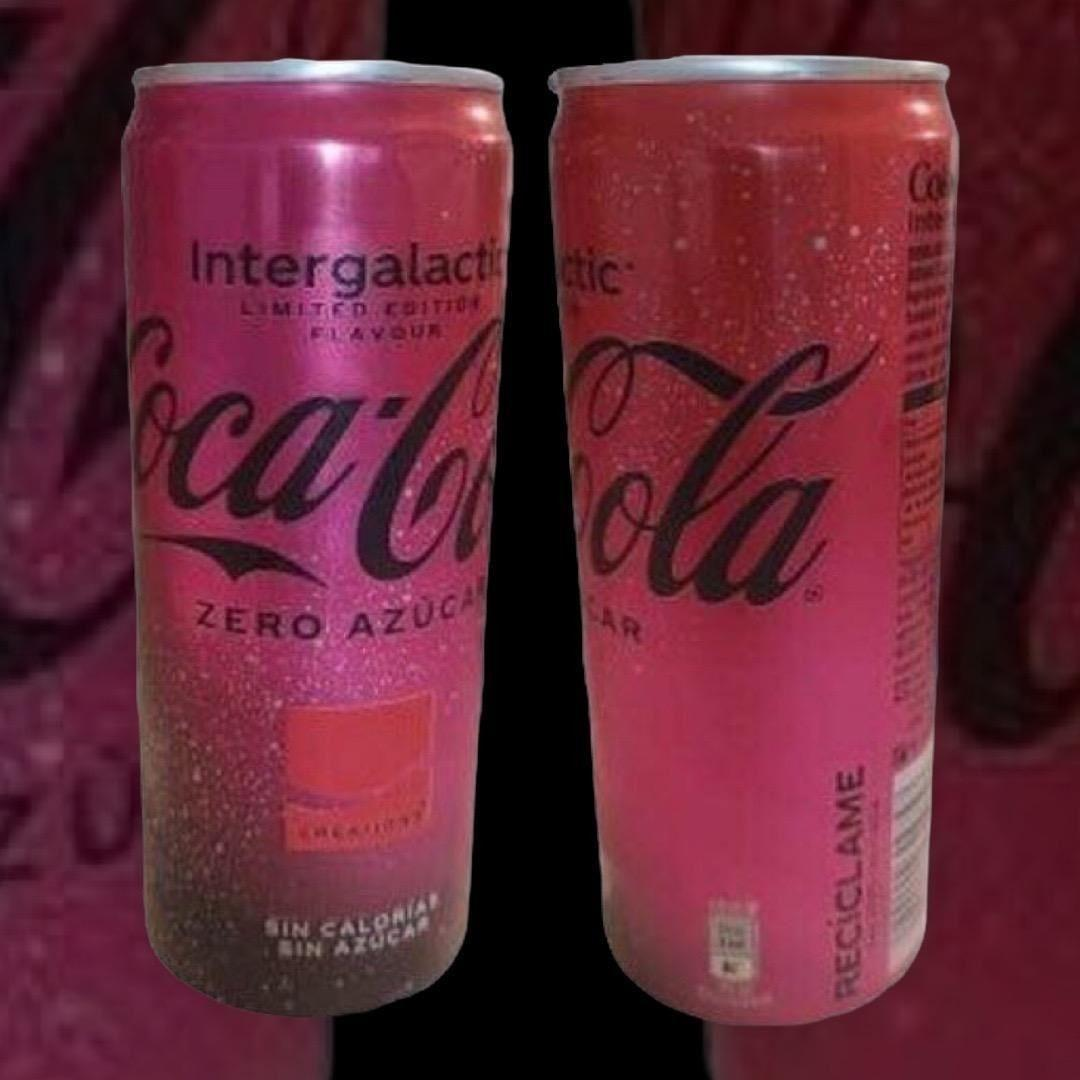tin can: (533, 39, 985, 1041), (99, 41, 529, 1037)
